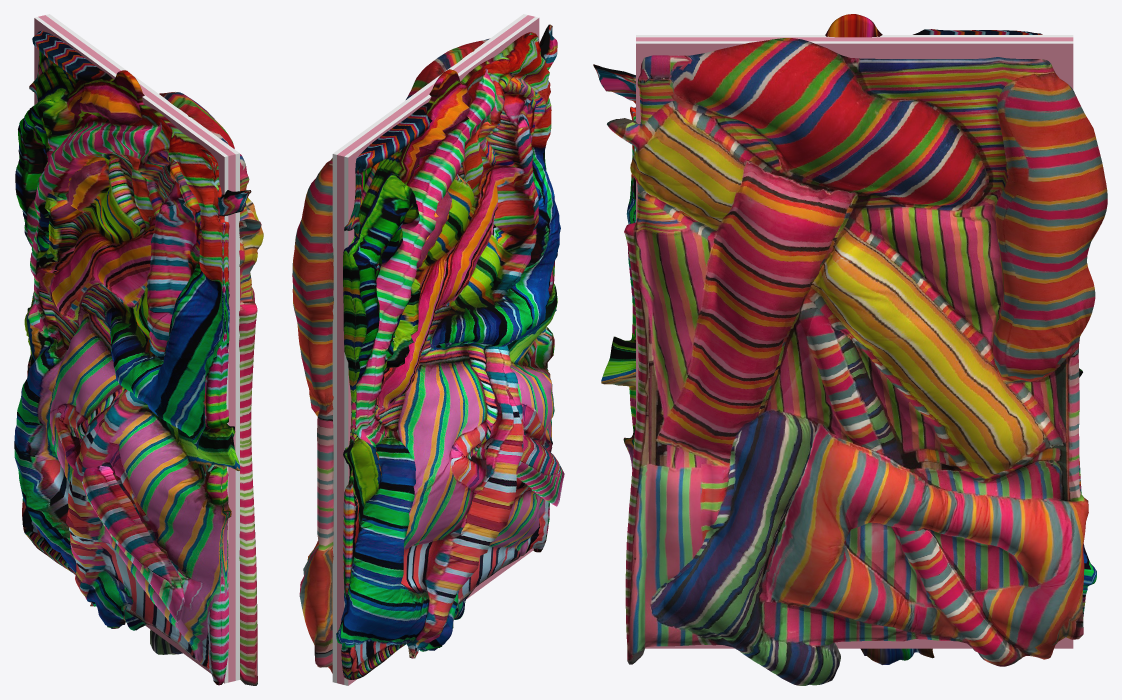
File: uxart_minujin.glb
3 renders of one model, left to right at view 1: azimuth 30°, elevation 25°; view 2: azimuth 150°, elevation 25°; view 3: azimuth 270°, elevation 25°, orthographic. The views are drawn at different scales.
Visible parts, largest first — view 1: ALMOHADONES3D_frente, plafon, ALMOHADONES3D_dorso; view 2: ALMOHADONES3D_frente, ALMOHADONES3D_dorso, plafon; view 3: ALMOHADONES3D_dorso, plafon, ALMOHADONES3D_frente.
Part boxes in pixels (<box>): ALMOHADONES3D_frente: <box>14,30,251,685</box>; plafon: <box>34,14,239,683</box>; ALMOHADONES3D_dorso: <box>150,92,263,685</box>; ALMOHADONES3D_frente: <box>336,24,560,679</box>; ALMOHADONES3D_dorso: <box>292,38,489,673</box>; plafon: <box>332,14,564,685</box>; ALMOHADONES3D_dorso: <box>607,38,1107,685</box>; plafon: <box>636,35,1073,648</box>; ALMOHADONES3D_frente: <box>593,14,1096,664</box>.
Size of what is drawn, in the model's own units: 1.22 by 4.99 by 3.53.
Materials: 4 (2 with a texture image).
